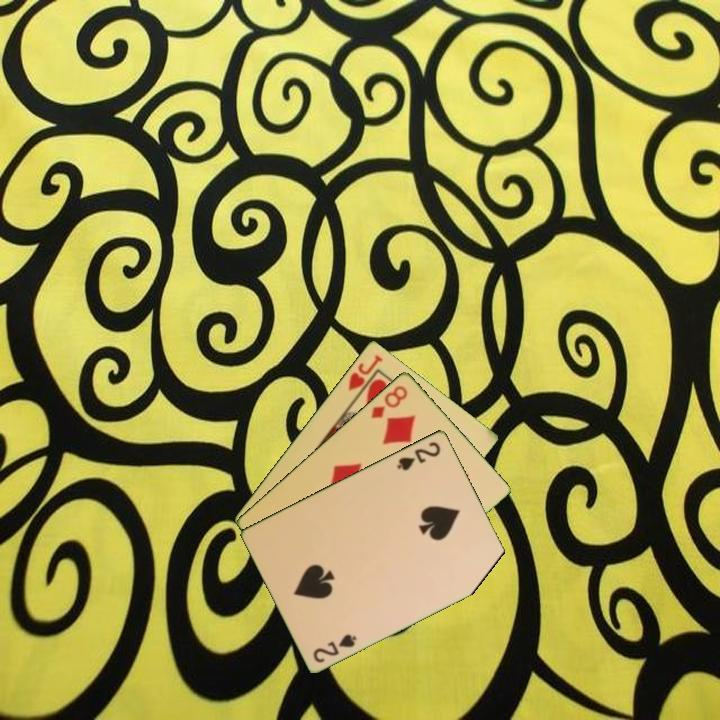2s: (393, 438, 443, 473), (310, 630, 360, 665)
8d: (367, 381, 410, 421)
Jh: (344, 351, 385, 393)
